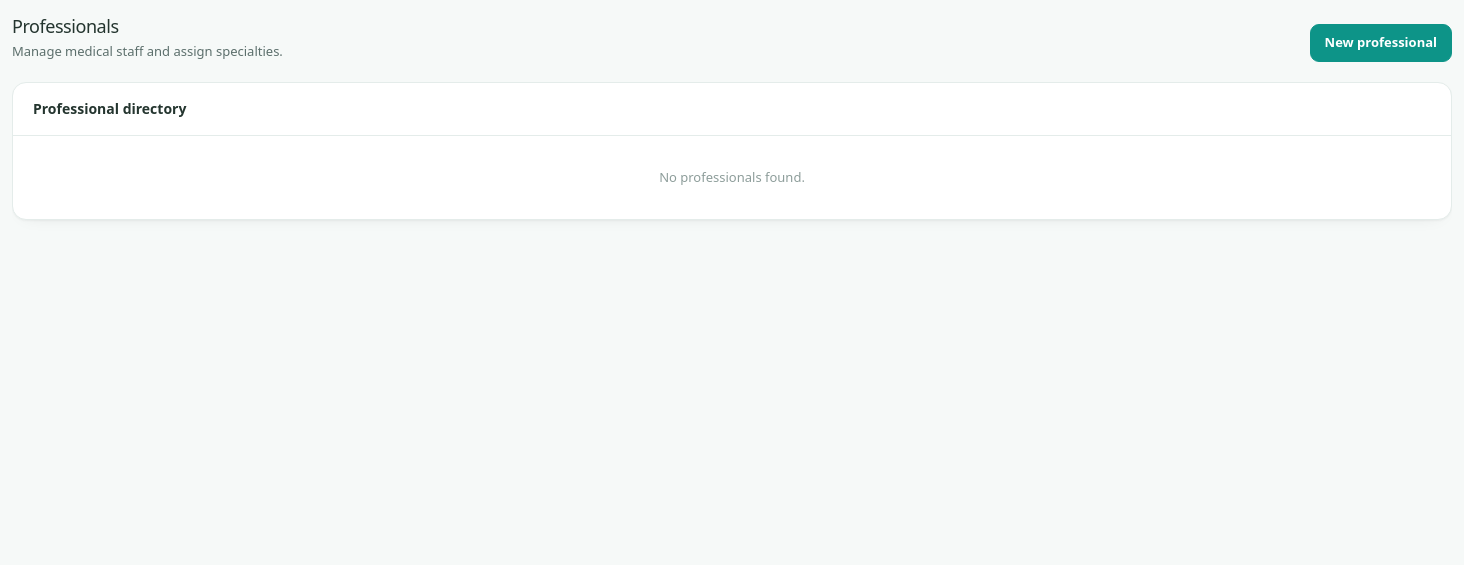
Test case: ProfessionalsPage › shows an error when registering a professional fails
Click the button "New professional" at (1381, 43), box [1310,24,1452,62]
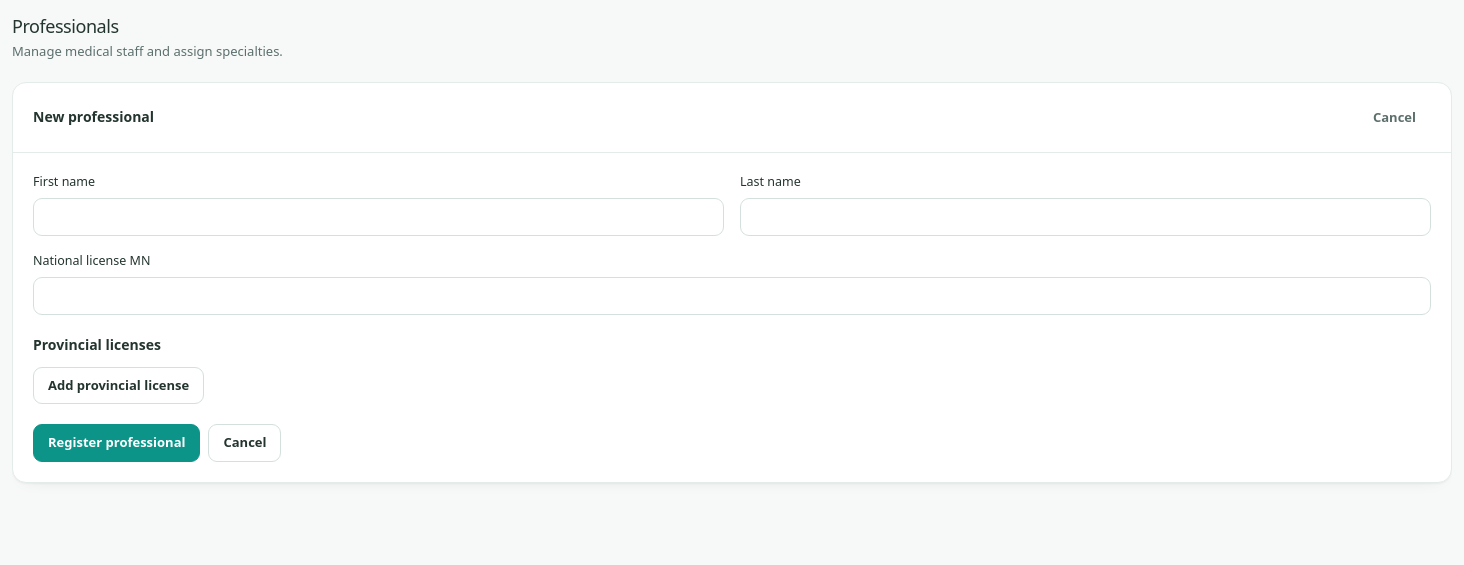
Type "Ana" into the field labelled "First name" at (378, 217), box [33,198,724,236]
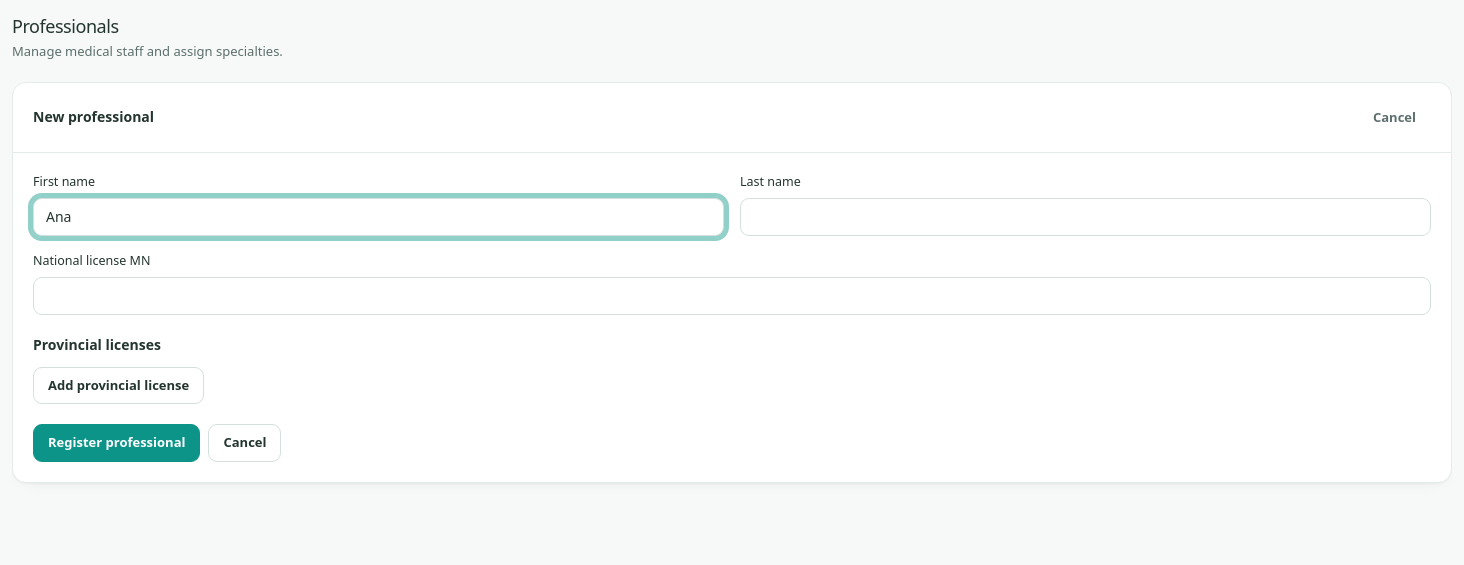
Type "Paz" into the field labelled "Last name" at (1086, 217), box [740,198,1431,236]
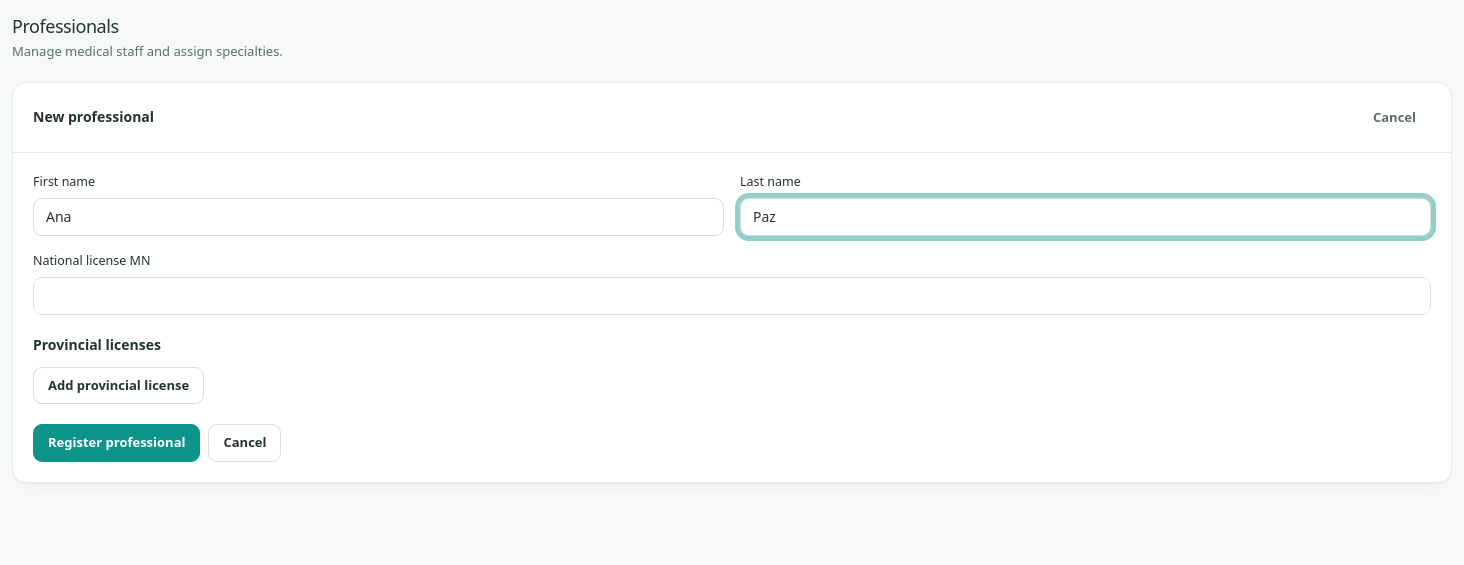
Type "MN-777" into the field labelled "National license MN" at (732, 296), box [33,276,1431,314]
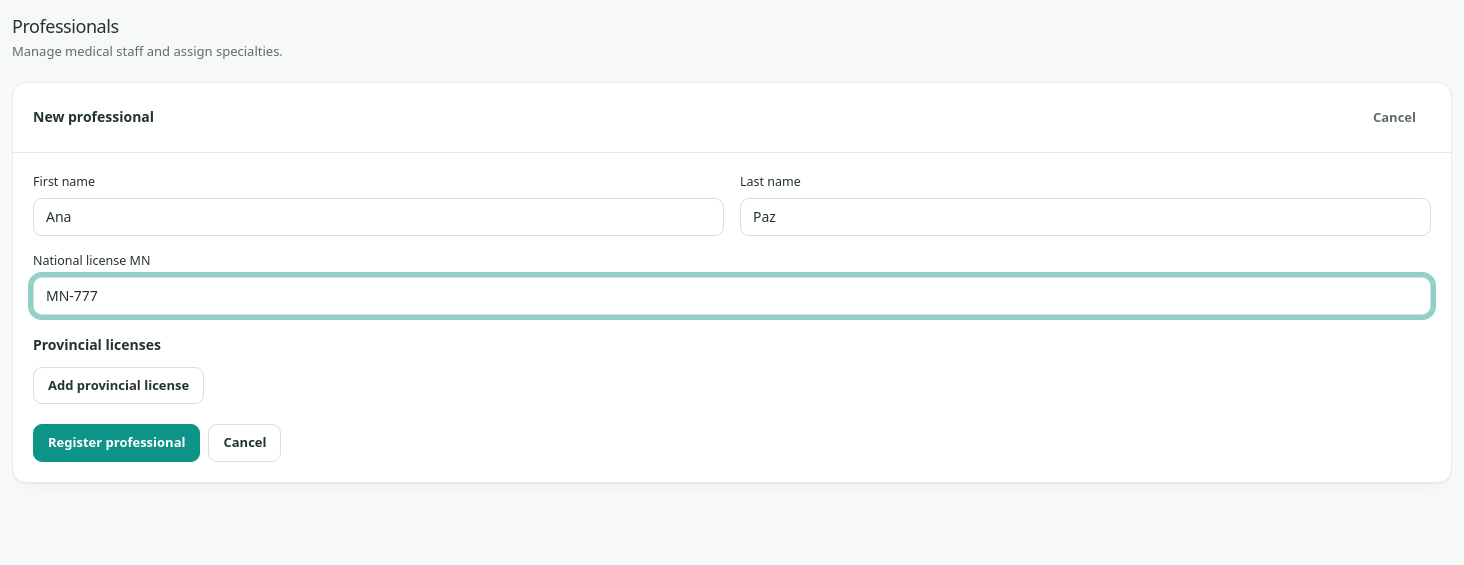
Click the button "Register professional" at (117, 443), box [33,424,200,462]
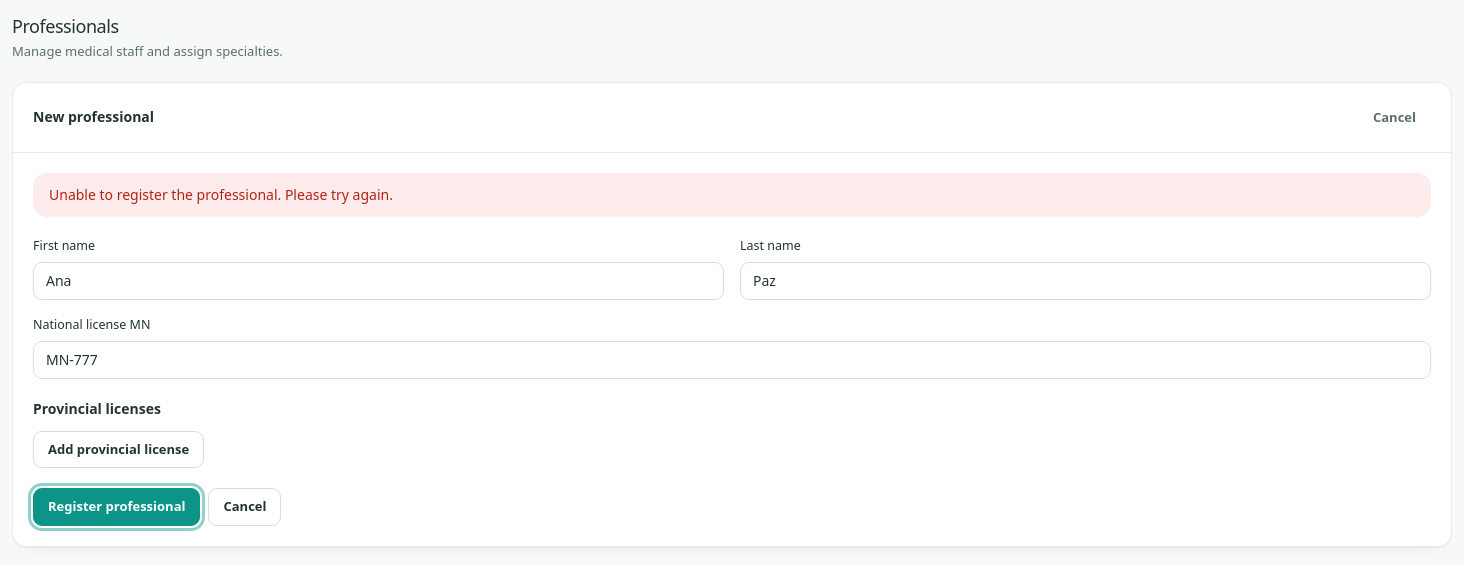
Expected: the message shows "Unable to register the professional", [49,185,393,204]
